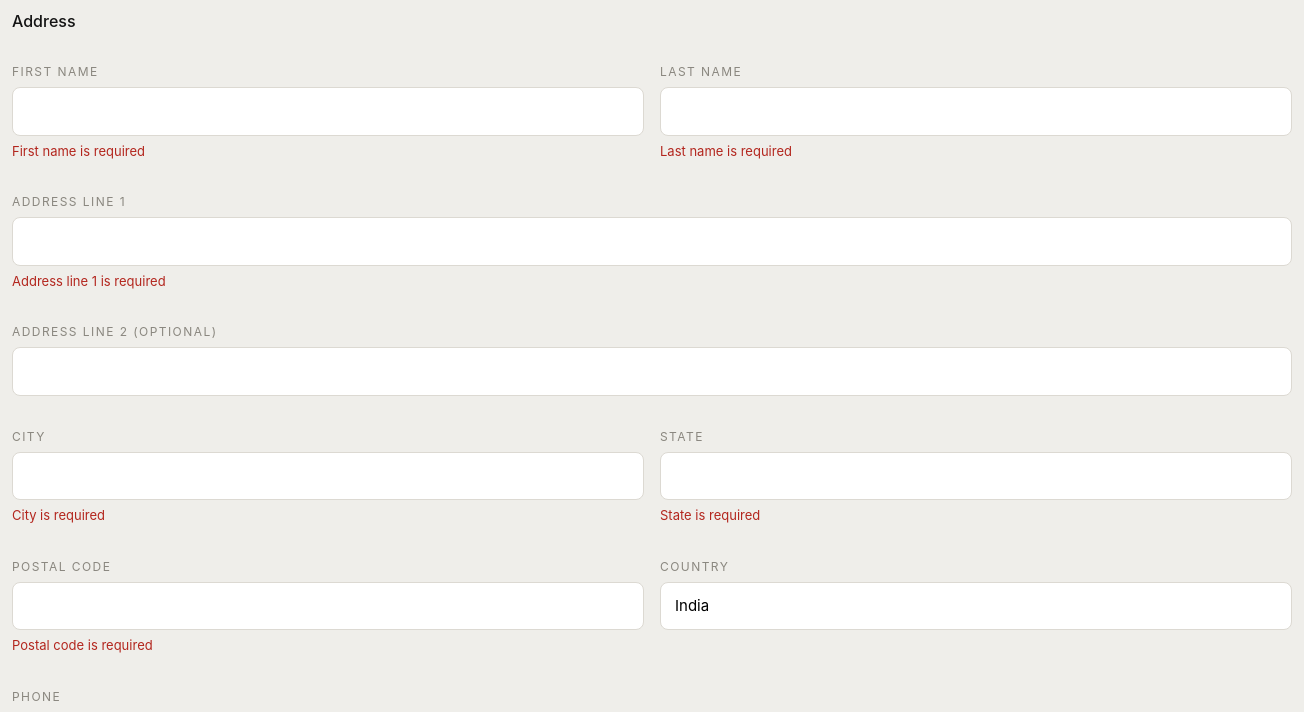
Test: AddressForm › clears the message once a field is filled
Type "Asha" into the field labelled "First name" at (328, 111), box 12,87 -> 644,136
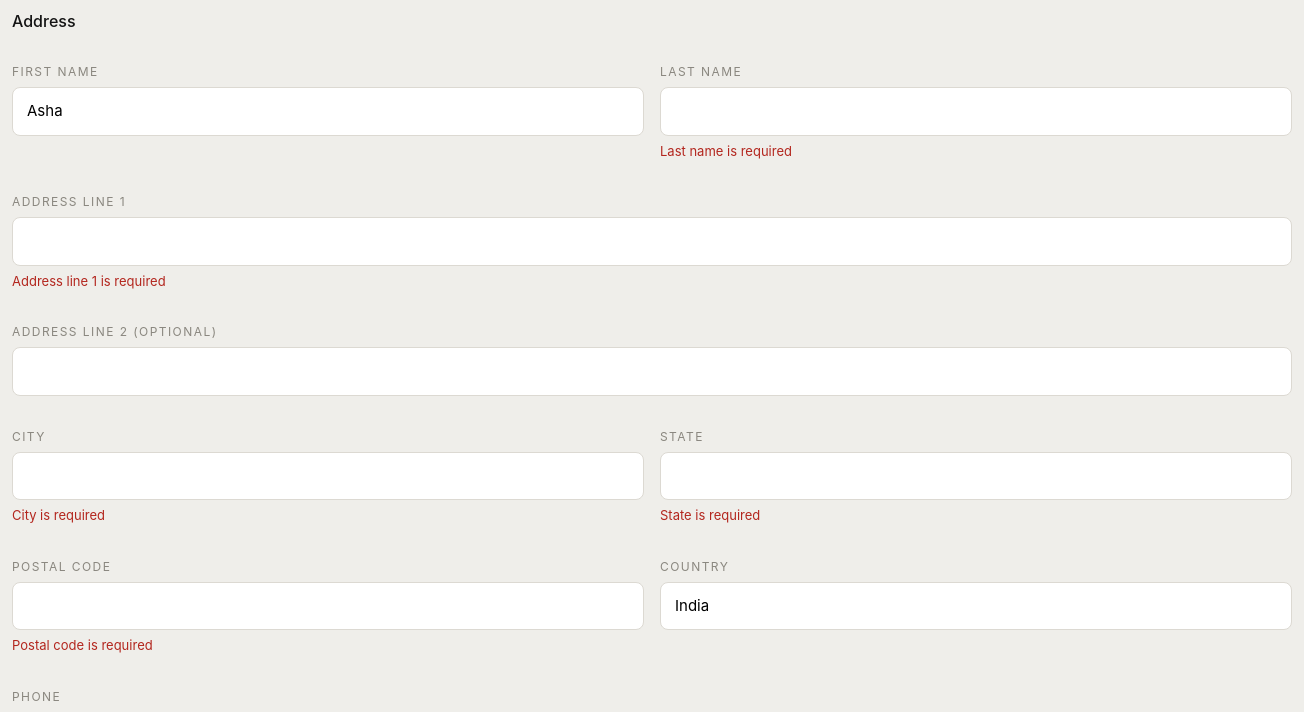
Now the text "First name is required" is gone
